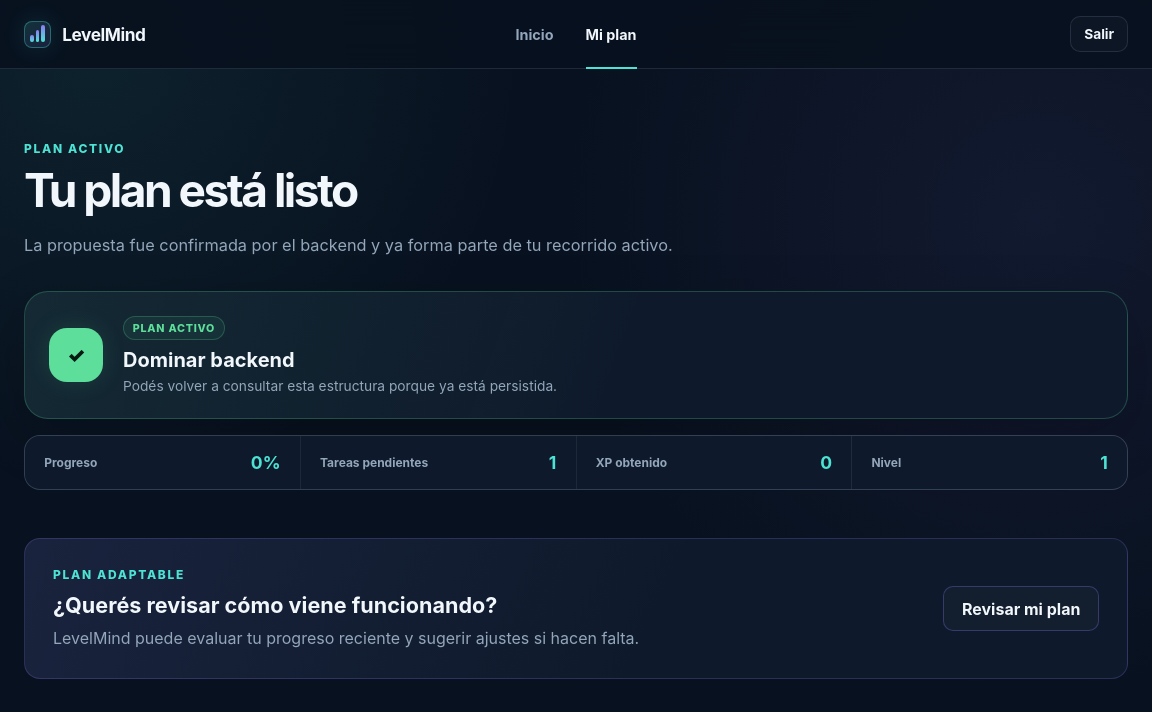
adaptation HITL flow › replaces technical insufficient-data content with a concise user-facing fallback
Click the button "Revisar mi plan": (1021, 609) x1=943 y1=586 x2=1099 y2=631
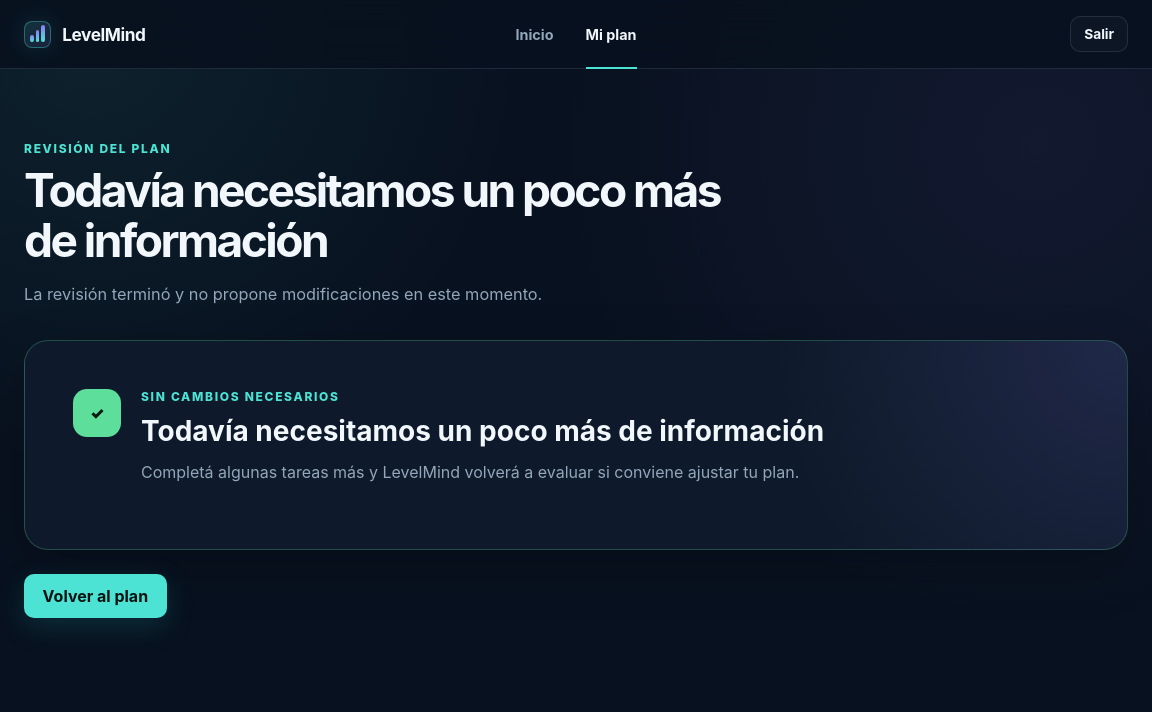
Expected: the number of headings "Todavía necesitamos un poco más de información" is 2, x1=24 y1=166 x2=774 y2=265; x1=141 y1=414 x2=824 y2=448
Now the text "Completá algunas tareas más y LevelMind volverá a evaluar si conviene ajustar tu plan." is shown, box x1=141 y1=462 x2=799 y2=482
